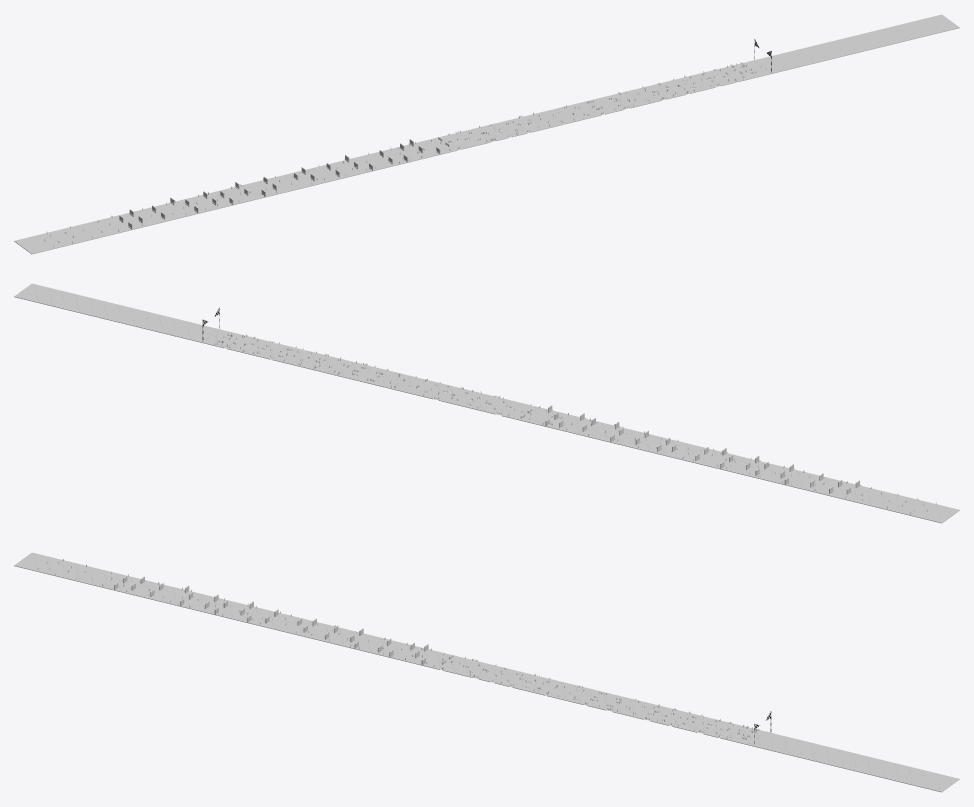
Rendered from Map Jadi.fbx.
3 views of the same model, one above another, from view 1: azimuth 30°, elevation 25°; view 2: azimuth 150°, elevation 25°; view 3: azimuth 330°, elevation 25° (orthographic).
Visible parts, largest first — view 1: Latar Map, Latar Map.001, Latar Map.003; view 2: Latar Map.001, Latar Map, Latar Map.003; view 3: Latar Map, Latar Map.001, Latar Map.003.
Boxes of the visible parts, <box> form: Latar Map: <box>23,61,794,254</box>; Latar Map.001: <box>14,55,785,247</box>; Latar Map.003: <box>777,14,959,68</box>; Latar Map.001: <box>179,330,950,523</box>; Latar Map: <box>188,324,959,516</box>; Latar Map.003: <box>14,283,196,337</box>; Latar Map: <box>14,559,785,751</box>; Latar Map.001: <box>23,552,794,744</box>; Latar Map.003: <box>777,738,959,792</box>.
Size of the model in its own units: 12168 by 286 by 409.
Materials: 5 (1 with a texture image).
